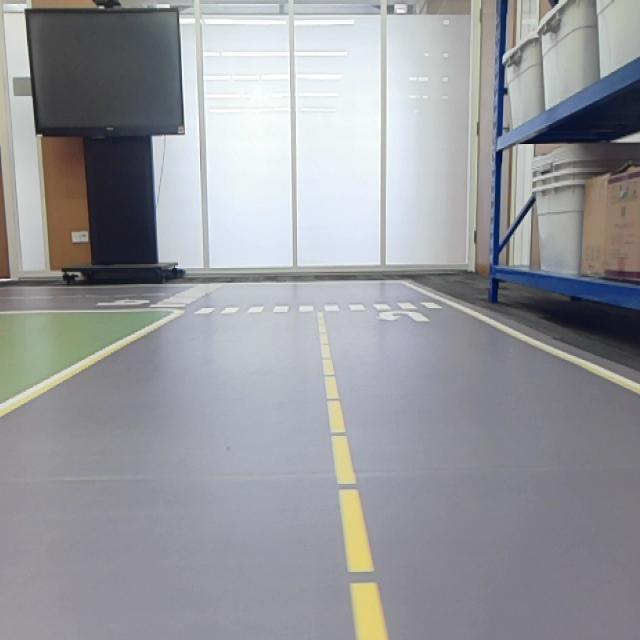left_lane: (316, 310, 390, 640)
right_lane: (404, 281, 639, 396), (0, 314, 180, 419)
